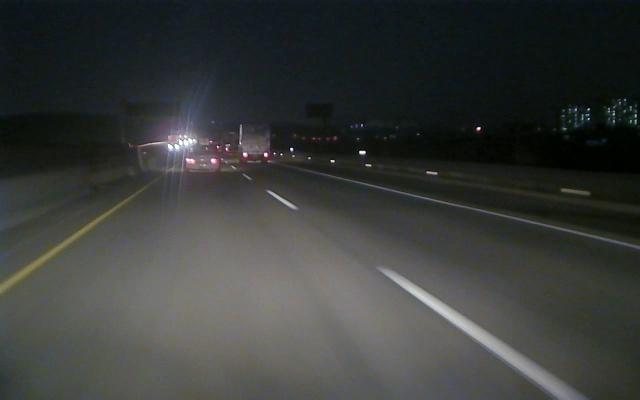lane: (246, 175, 588, 398), (327, 174, 640, 250), (1, 184, 149, 294)
